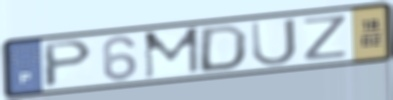6: (100, 33, 140, 83)
D: (195, 23, 251, 74)
M: (142, 25, 202, 81)
P: (41, 38, 95, 90)
U: (248, 16, 300, 69)
Z: (301, 13, 350, 63)
